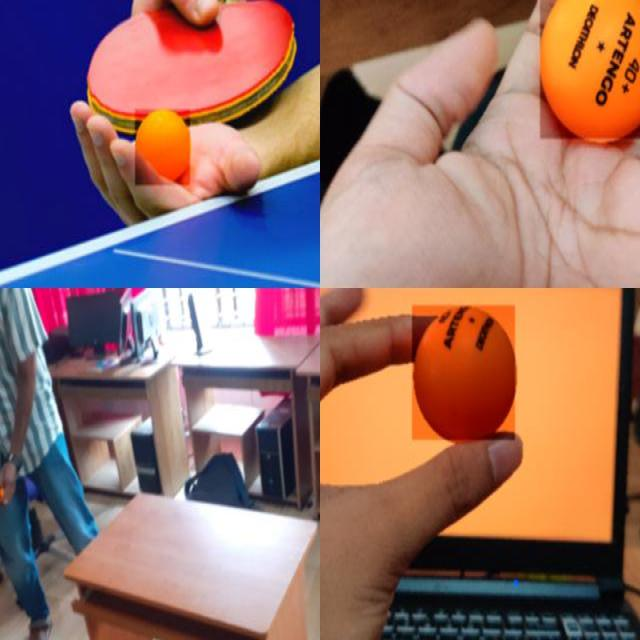ping-pong-ball: (412, 306, 516, 442), (540, 0, 639, 141), (135, 109, 191, 187), (0, 487, 3, 501)
